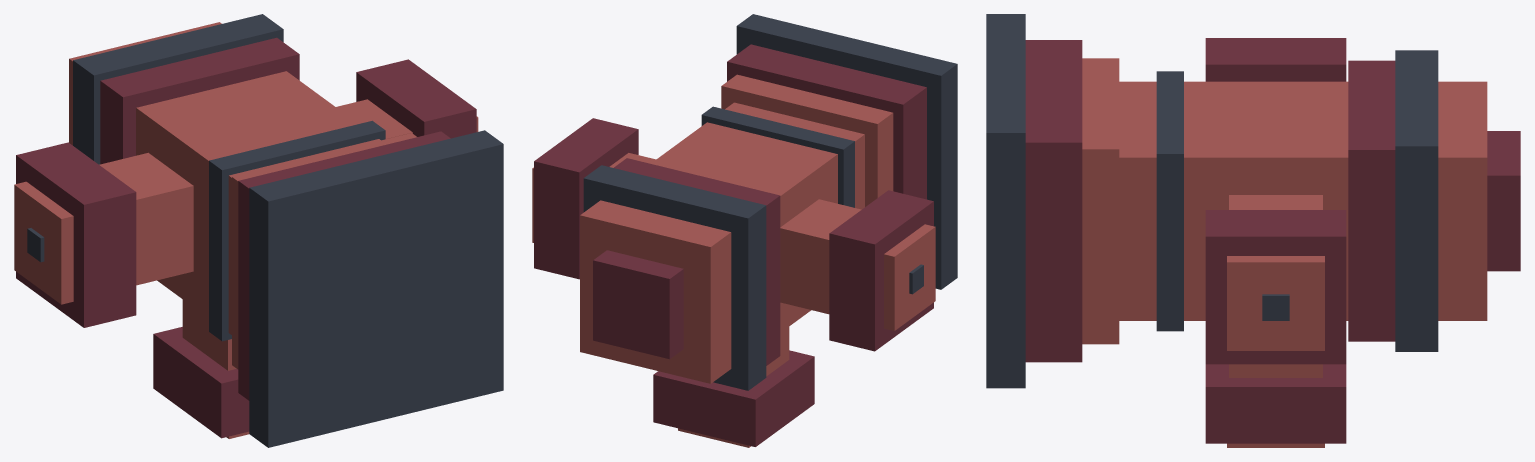
The model's file is gotham_fire_hydrant.glb.
3 renders of one model, left to right at view 1: azimuth 30°, elevation 25°; view 2: azimuth 150°, elevation 25°; view 3: azimuth 270°, elevation 25°, orthographic. The views are drawn at different scales.
Parts seen in each view (by area): view 1: Gotham_Fire_Hydrant; view 2: Gotham_Fire_Hydrant; view 3: Gotham_Fire_Hydrant.
Part boxes in pixels (x1=…): Gotham_Fire_Hydrant: x1=14, y1=14, x2=503, y2=447; Gotham_Fire_Hydrant: x1=532, y1=14, x2=957, y2=447; Gotham_Fire_Hydrant: x1=986, y1=14, x2=1520, y2=447.
Bounding box in the file's own units: 1.3 × 1.01 × 1.37.
